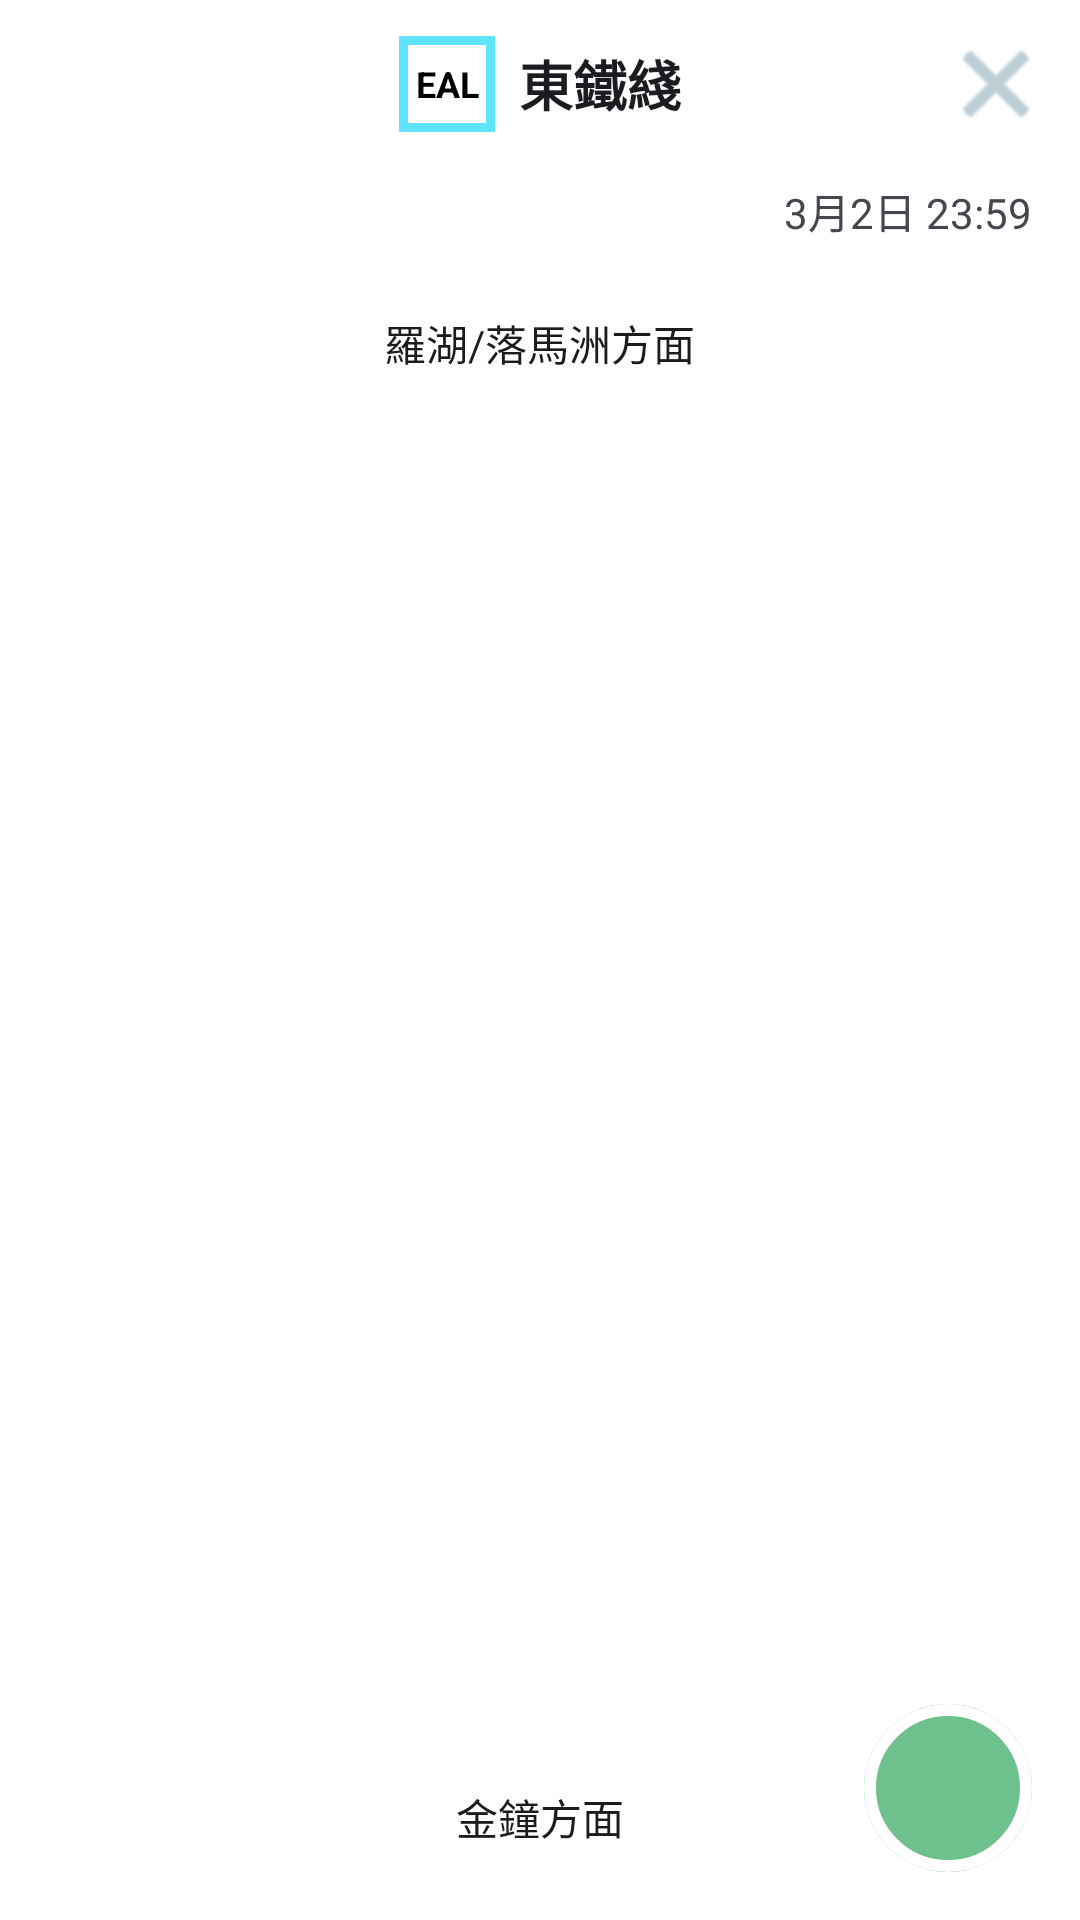

Screen size 1080px x 1920px. Icon name, then its box in pixels as {"left": x1, "top": y1, "right": x2, "bottom": y2}:
close clear cancel: {"left": 963, "top": 51, "right": 1029, "bottom": 117}
